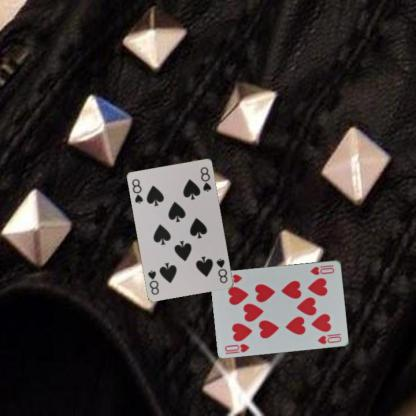10h: (222, 341, 251, 353), (308, 264, 336, 276)
8s: (214, 256, 229, 284), (130, 176, 144, 205)
